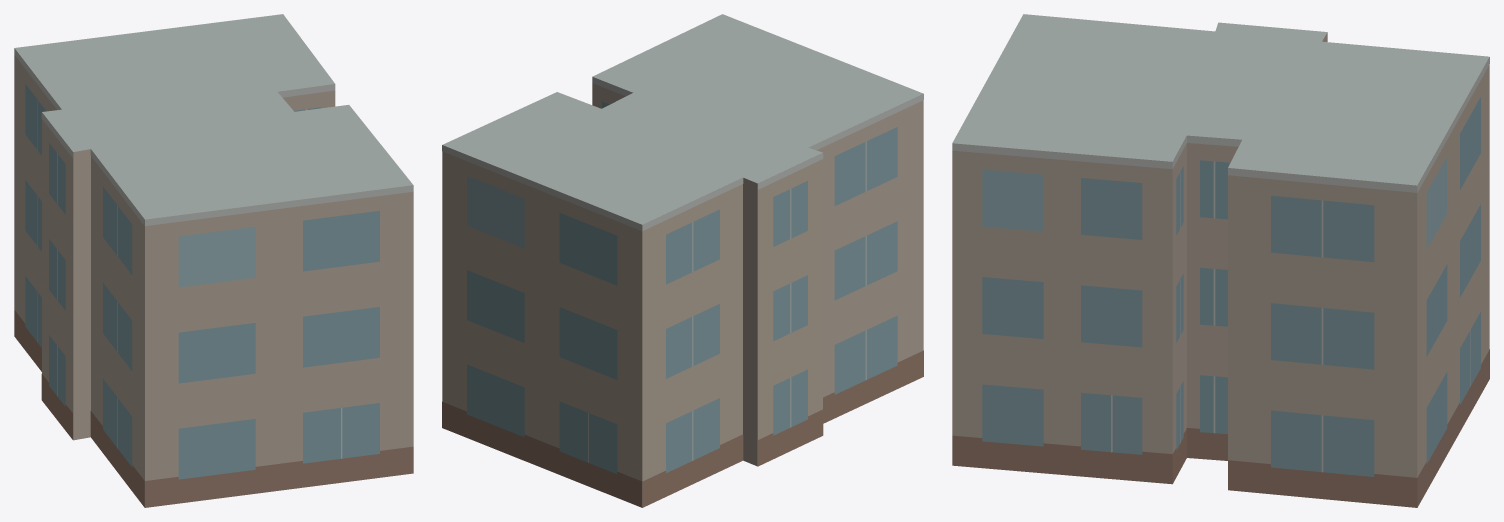
Rendered from survey-upis-32851599.glb.
3 renders of one model, left to right at view 1: azimuth 30°, elevation 25°; view 2: azimuth 150°, elevation 25°; view 3: azimuth 270°, elevation 25°, orthographic. The views are drawn at different scales.
Parts seen in each view (by area): view 1: survey-upis-32851599.tmp; view 2: survey-upis-32851599.tmp; view 3: survey-upis-32851599.tmp.
Boxes of the visible parts, x1,y1,x2,y2 form: survey-upis-32851599.tmp: (14, 14, 413, 507); survey-upis-32851599.tmp: (442, 14, 923, 507); survey-upis-32851599.tmp: (952, 14, 1489, 507).
Size of the model in its own units: 12.27 by 10.74 by 16.25.
